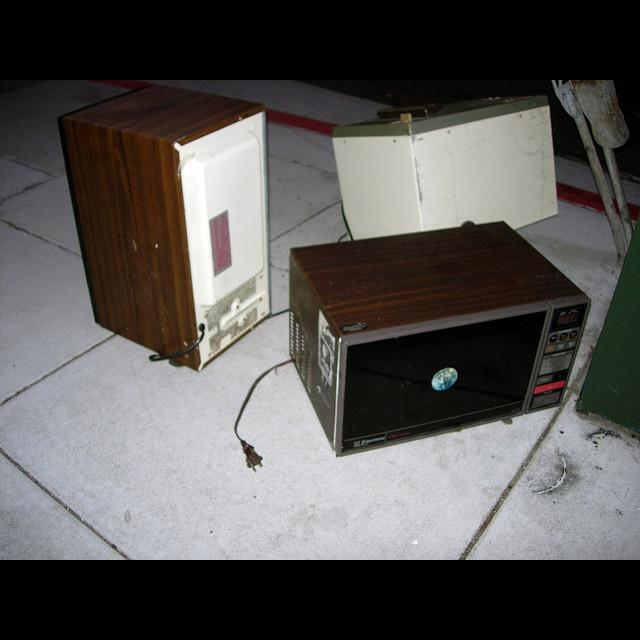Microwave: (287, 224, 593, 456), (335, 90, 562, 237)
